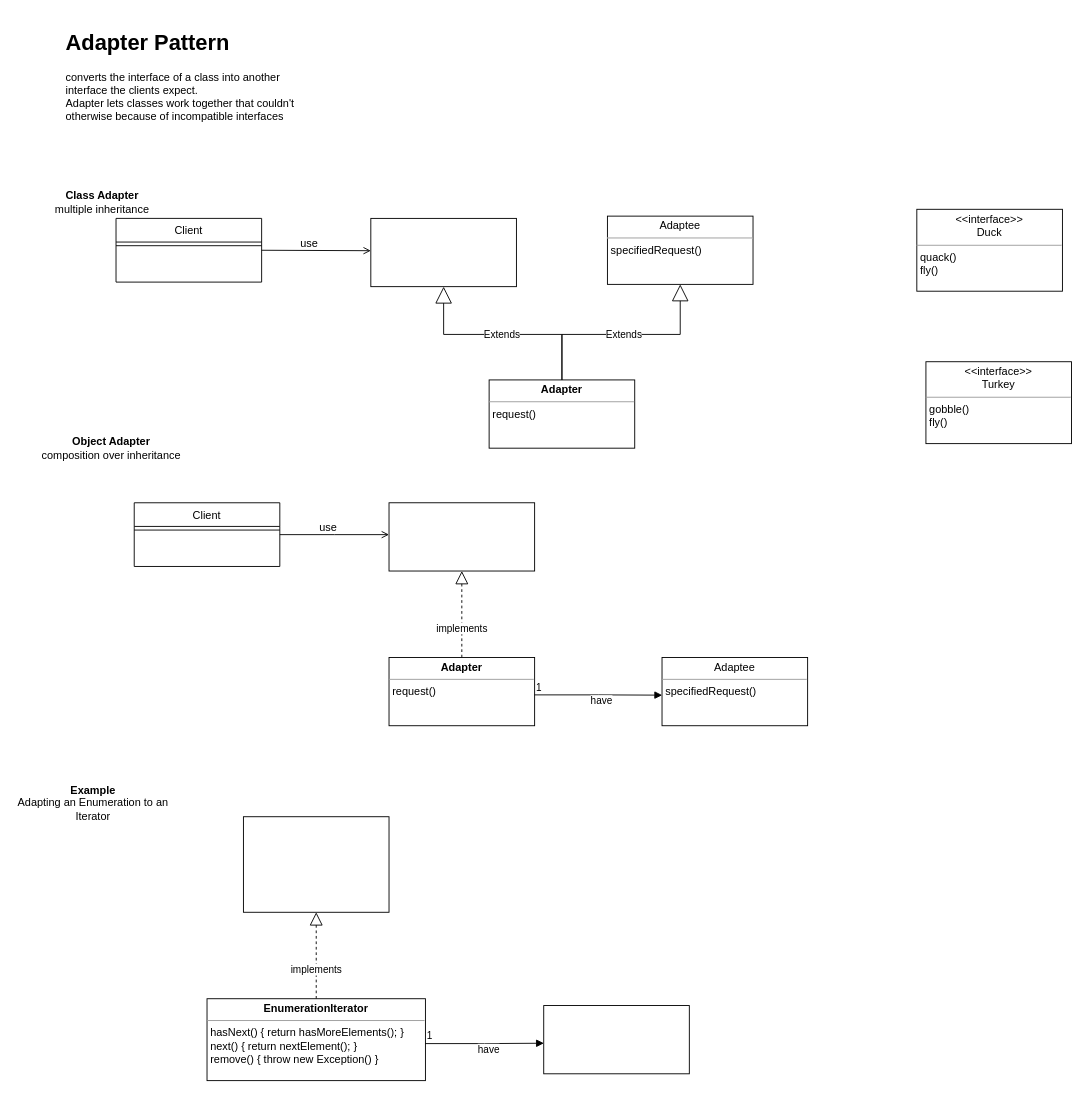
This 1087x1097 diagram has some shape labels left out. Here are the shapes that lost their labels. From the top down, the centre of each, then its label:
At (x=443, y=252): "Target request()".
At (x=461, y=536): "<<interface>> Target request()".
At (x=316, y=864): "<<interface>> Iterator hasNext() next() remove()".
At (x=616, y=1039): "<<interface>> Enumeration hasMoreElements() nextElement()".
